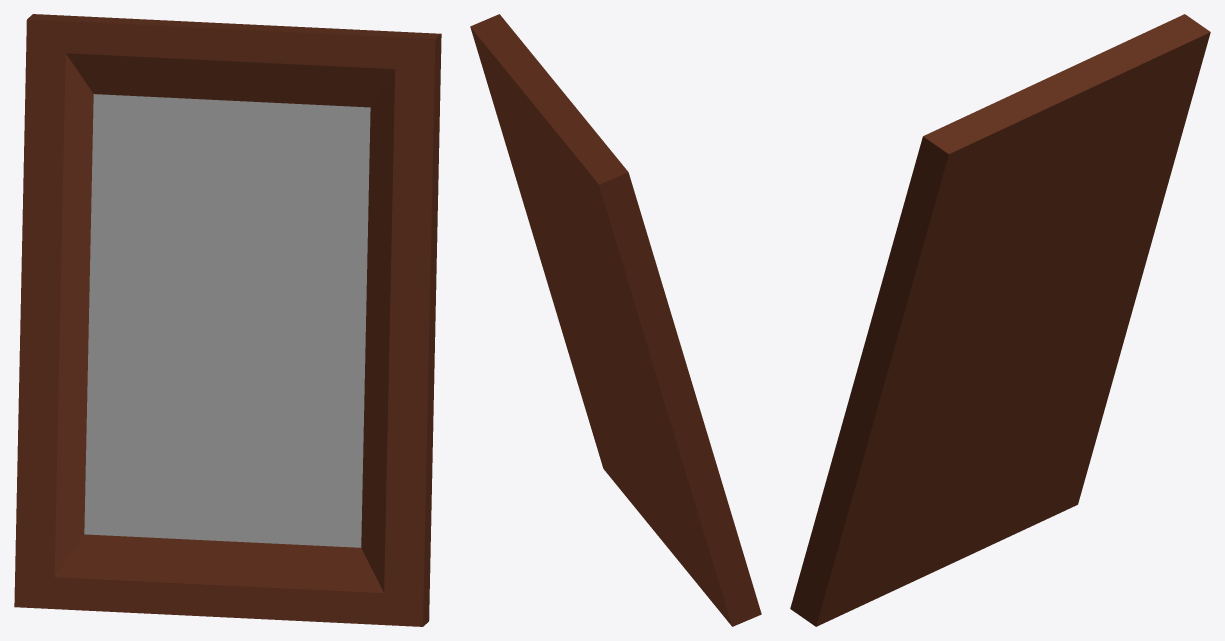
File: SM_Cadre.fbx
3 renders of one model, left to right at view 1: azimuth 30°, elevation 25°; view 2: azimuth 150°, elevation 25°; view 3: azimuth 270°, elevation 25°, orthographic. The views are drawn at different scales.
Visible parts, largest first — view 1: polySurface56, polySurface55; view 2: polySurface56; view 3: polySurface56.
Part boxes in pixels (bbox=[...]): polySurface56: bbox=[14, 14, 441, 626]; polySurface55: bbox=[84, 94, 370, 547]; polySurface56: bbox=[470, 14, 761, 626]; polySurface56: bbox=[790, 14, 1210, 626].
Bounding box in the file's own units: 6.22 × 8.54 × 6.14.
